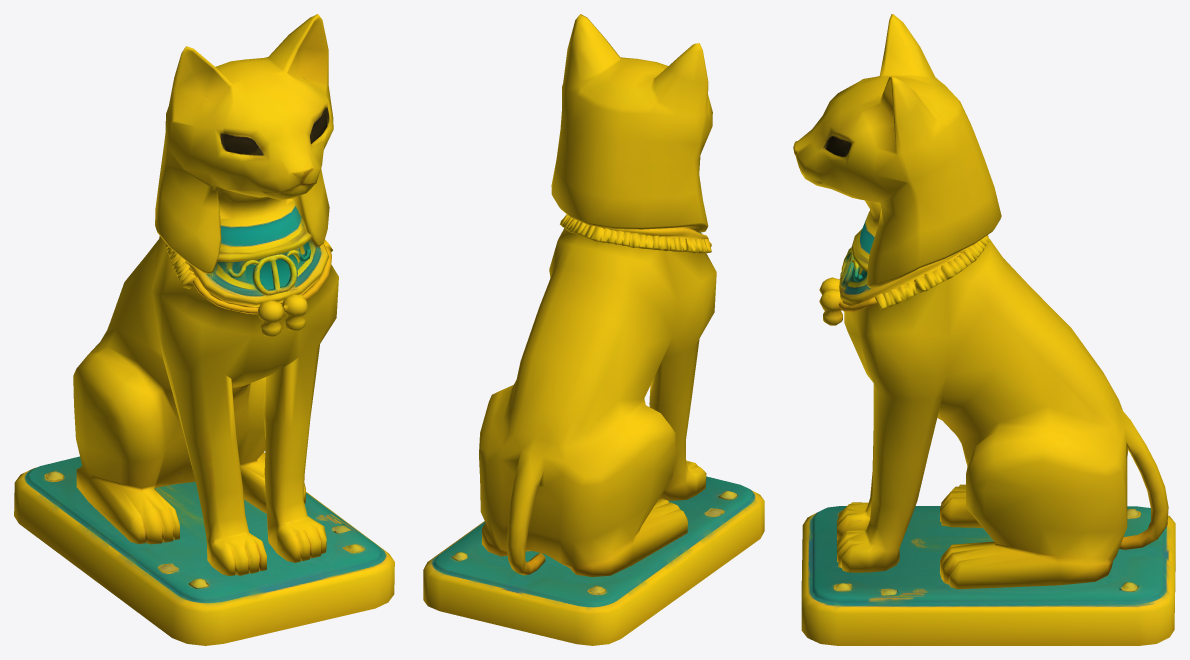
Rendered from artifact_rare-D6tNk0cu.glb.
3 renders of one model, left to right at view 1: azimuth 30°, elevation 25°; view 2: azimuth 150°, elevation 25°; view 3: azimuth 270°, elevation 25°, orthographic. The views are drawn at different scales.
Parts seen in each view (by area): view 1: tripo_node_9668ef54-c35d-4b41-9f19-5ea0482355e3; view 2: tripo_node_9668ef54-c35d-4b41-9f19-5ea0482355e3; view 3: tripo_node_9668ef54-c35d-4b41-9f19-5ea0482355e3.
Part boxes in pixels (<box>): tripo_node_9668ef54-c35d-4b41-9f19-5ea0482355e3: <box>14,14,394,645</box>; tripo_node_9668ef54-c35d-4b41-9f19-5ea0482355e3: <box>423,14,764,645</box>; tripo_node_9668ef54-c35d-4b41-9f19-5ea0482355e3: <box>793,14,1175,645</box>.
Bounding box in the file's own units: 0.4043 × 0.998 × 0.6309.
1 material, 1 textured.
